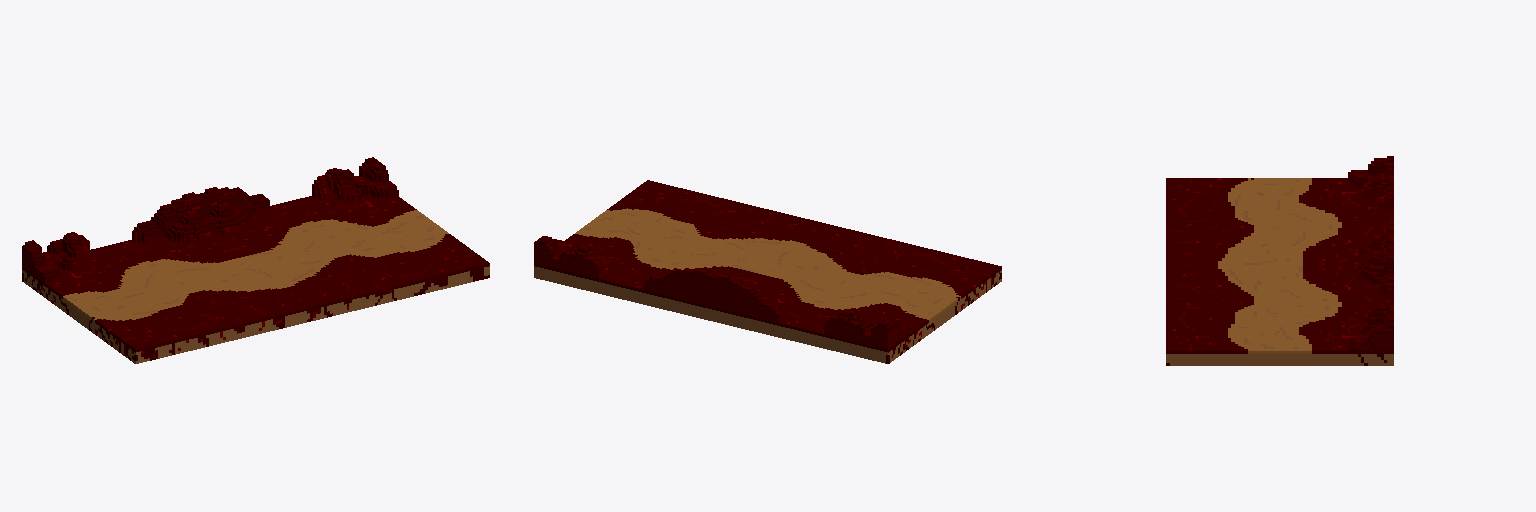
The picture shows the model from 3 angles: view 1: azimuth 30°, elevation 25°; view 2: azimuth 150°, elevation 25°; view 3: azimuth 270°, elevation 25°; orthographic projection.
Visible parts, largest first — view 1: object 1; view 2: object 1; view 3: object 1.
Part boxes in pixels (x1,y1,x2,y2): object 1: (22, 157, 489, 363); object 1: (534, 180, 1001, 363); object 1: (1166, 156, 1393, 365).
Bounding box in the file's own units: 12.6 × 1.6 × 7.
Materials: 1 (1 with a texture image).